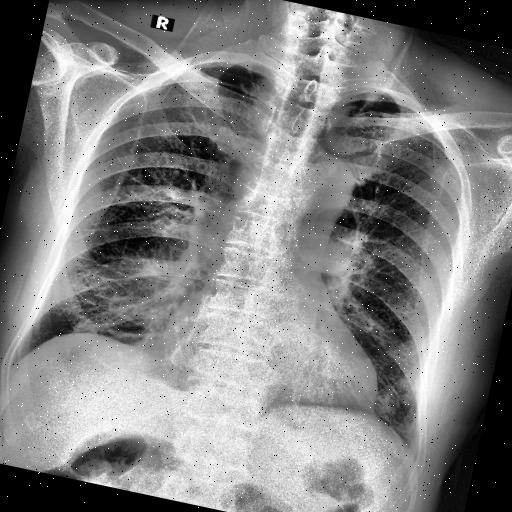0- Aortic enlargement: (289, 147, 357, 218)
3- Cardiomegaly: (154, 290, 394, 418)
7- Lung Opacity: (110, 272, 182, 354)
9- Other lesion: (110, 272, 182, 354)
